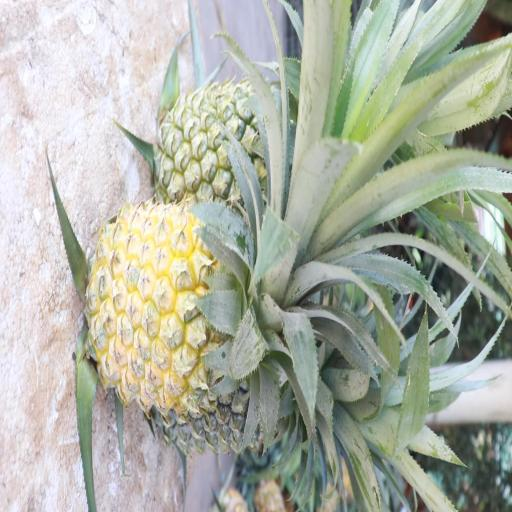------------------------------: (155, 69, 300, 204)
Pineapple - v8 v1: (89, 204, 302, 414)
